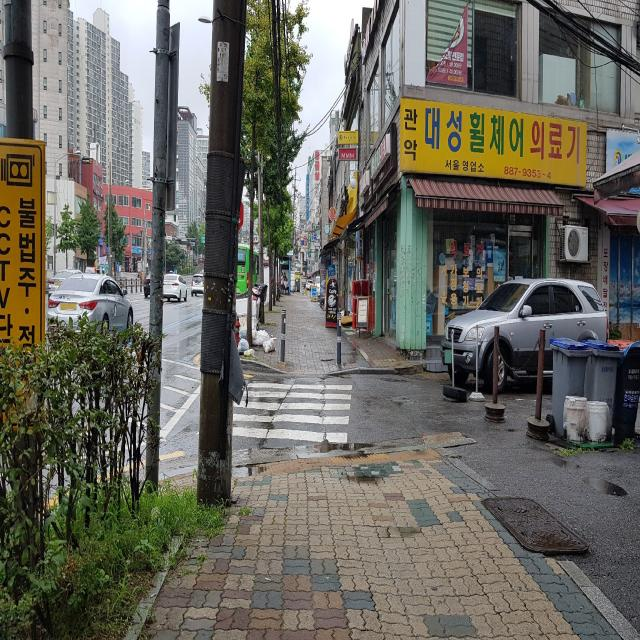횡단보도: (195, 382, 353, 444)
